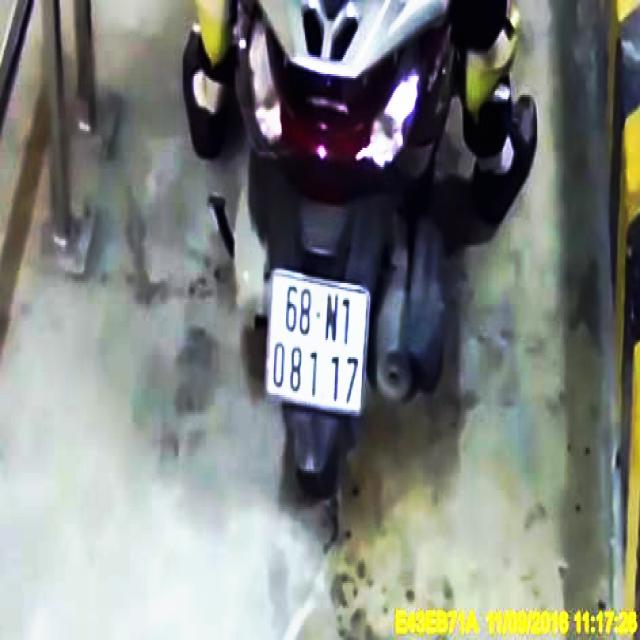license_plate: (267, 265, 372, 417)
